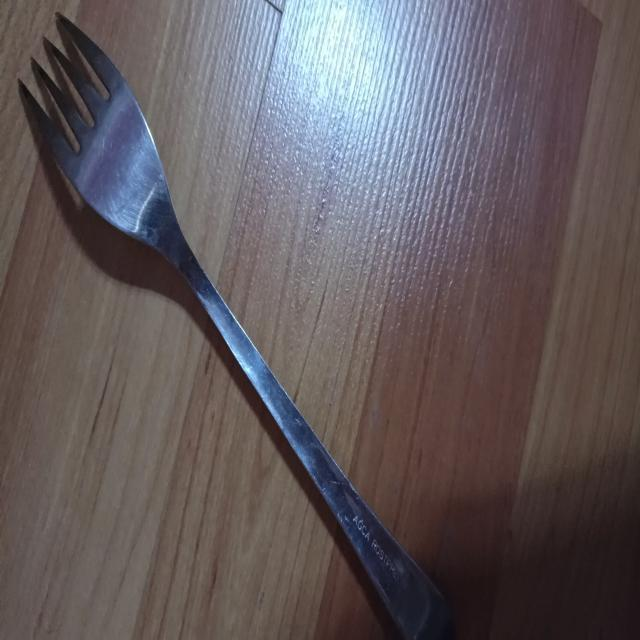spoon: (18, 11, 456, 640)
